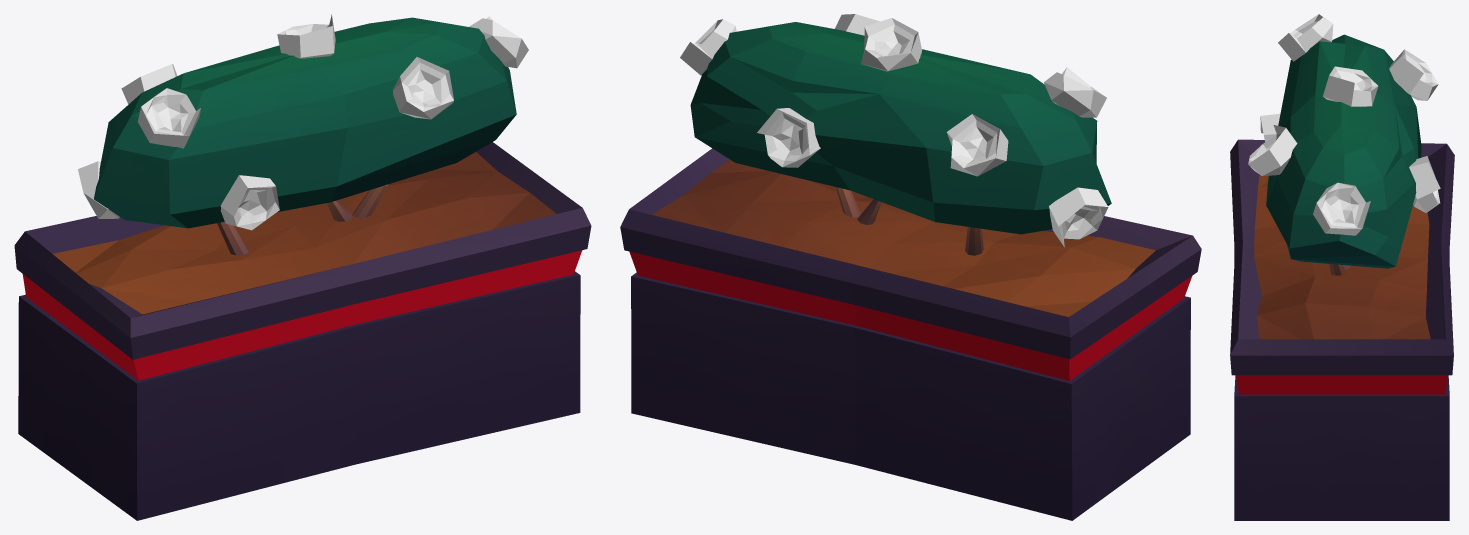
The model's file is Garden_RosePlanter03.fbx.
3 views of the same model, side by side, from view 1: azimuth 30°, elevation 25°; view 2: azimuth 150°, elevation 25°; view 3: azimuth 270°, elevation 25° (orthographic). The views are drawn at different scales.
Parts seen in each view (by area): view 1: Planter.003; view 2: Planter.003; view 3: Planter.003.
Part boxes in pixels (x1,y1,x2,y2): Planter.003: (14,14,591,520); Planter.003: (620,14,1201,520); Planter.003: (1230,14,1454,520).
Size of the model in its own units: 127 by 105 by 59.37.
